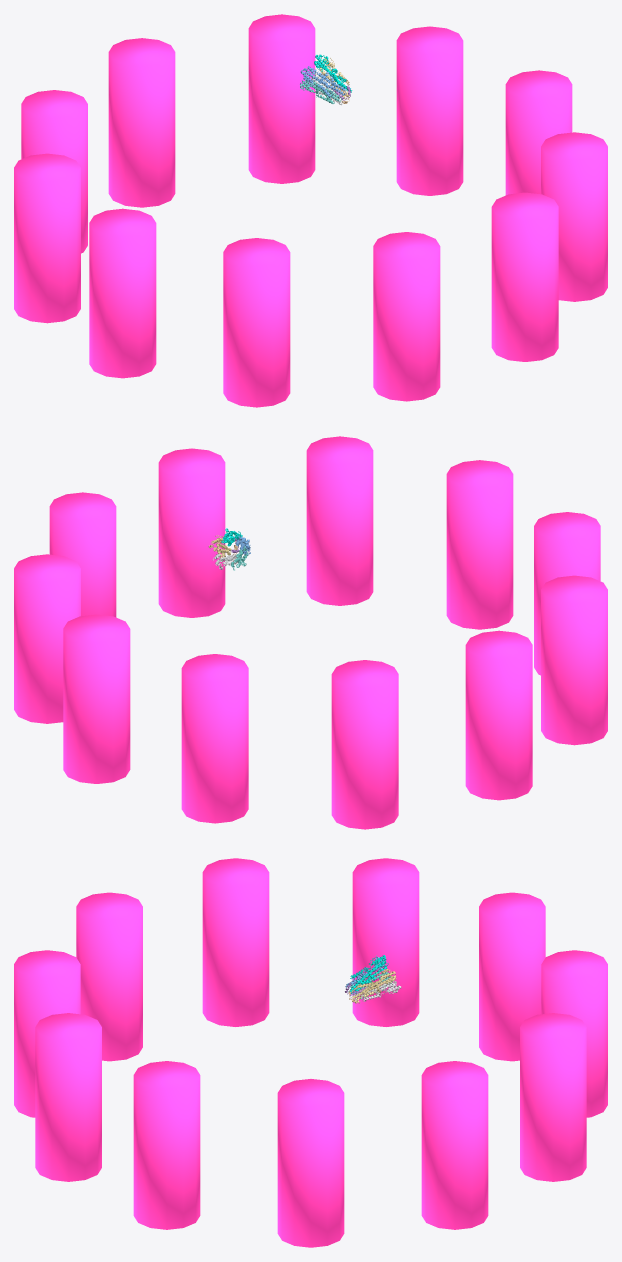
The model's file is 6YKM.glb.
3 renders of one model, top to bottom at view 1: azimuth 30°, elevation 25°; view 2: azimuth 150°, elevation 25°; view 3: azimuth 270°, elevation 25°, orthographic.
Parts seen in each view (by area): view 1: MotA_MotB_Stator_Channels, FlgB_Rod_Adapter; view 2: MotA_MotB_Stator_Channels; view 3: MotA_MotB_Stator_Channels.
Boxes of the visible parts, x1,y1,x2,y2 form: MotA_MotB_Stator_Channels: (14,14,607,407); FlgB_Rod_Adapter: (300,66,346,98); MotA_MotB_Stator_Channels: (14,436,607,829); MotA_MotB_Stator_Channels: (14,858,607,1247).
Bounding box in the file's own units: 106 × 37.46 × 107.
